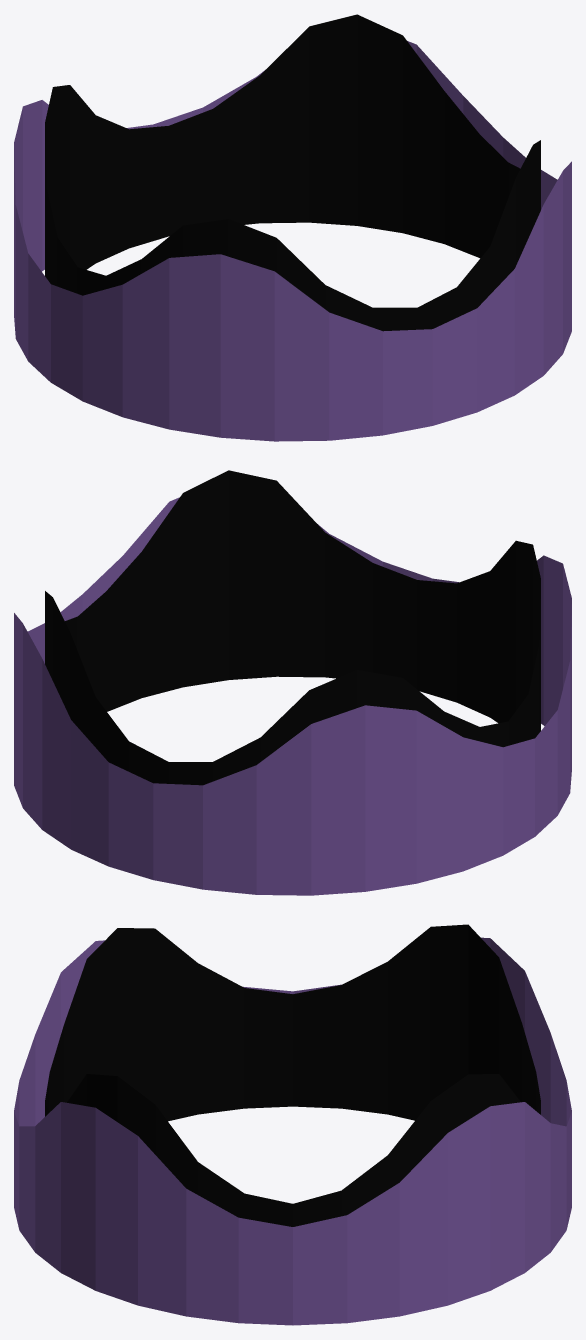
The model's file is RightAura.glb.
3 views of the same model, one above another, from view 1: azimuth 30°, elevation 25°; view 2: azimuth 150°, elevation 25°; view 3: azimuth 270°, elevation 25° (orthographic).
Visible parts, largest first — view 1: aura, aura.001; view 2: aura, aura.001; view 3: aura.001, aura.
Part boxes in pixels (<box>): aura: <box>45,14,540,331</box>; aura.001: <box>14,41,571,441</box>; aura: <box>45,470,540,785</box>; aura.001: <box>14,497,571,895</box>; aura.001: <box>14,937,571,1325</box>; aura: <box>45,924,540,1226</box>.
Bounding box in the file's own units: 1.12 × 0.4734 × 1.12.
Materials: 1 (1 with a texture image).
